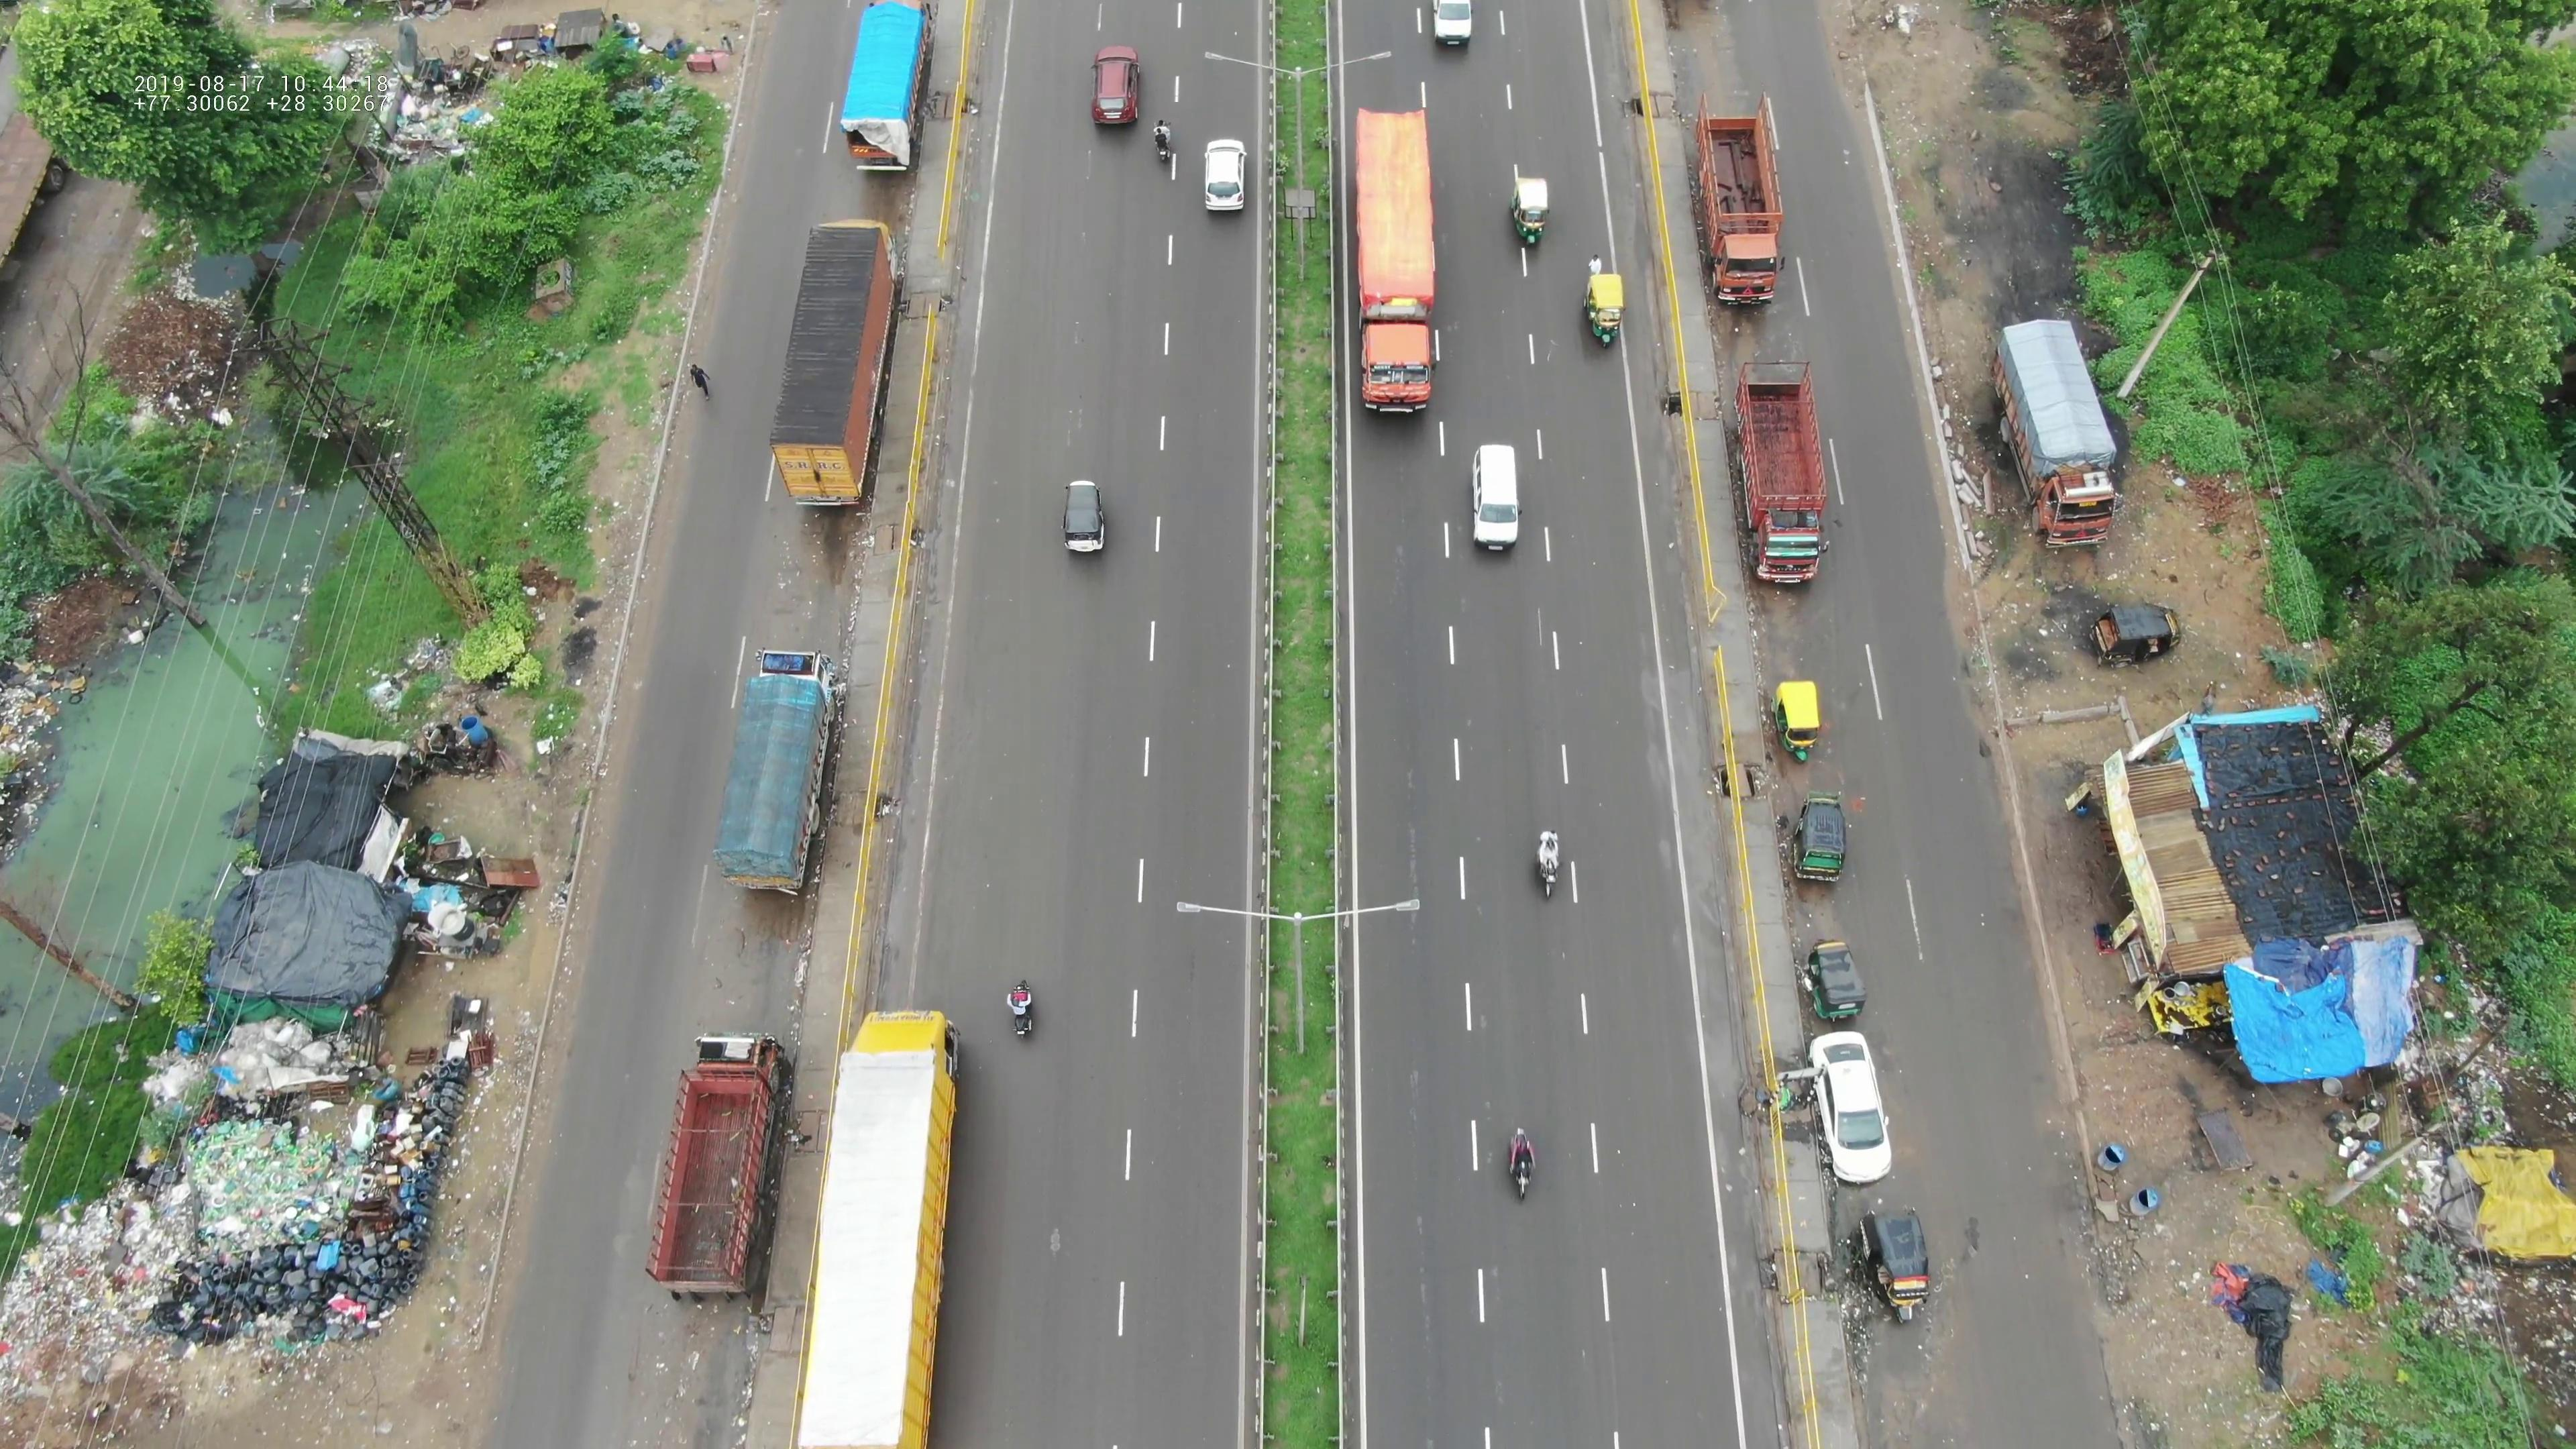Road_side_garbage: (9, 1030, 508, 1378)
